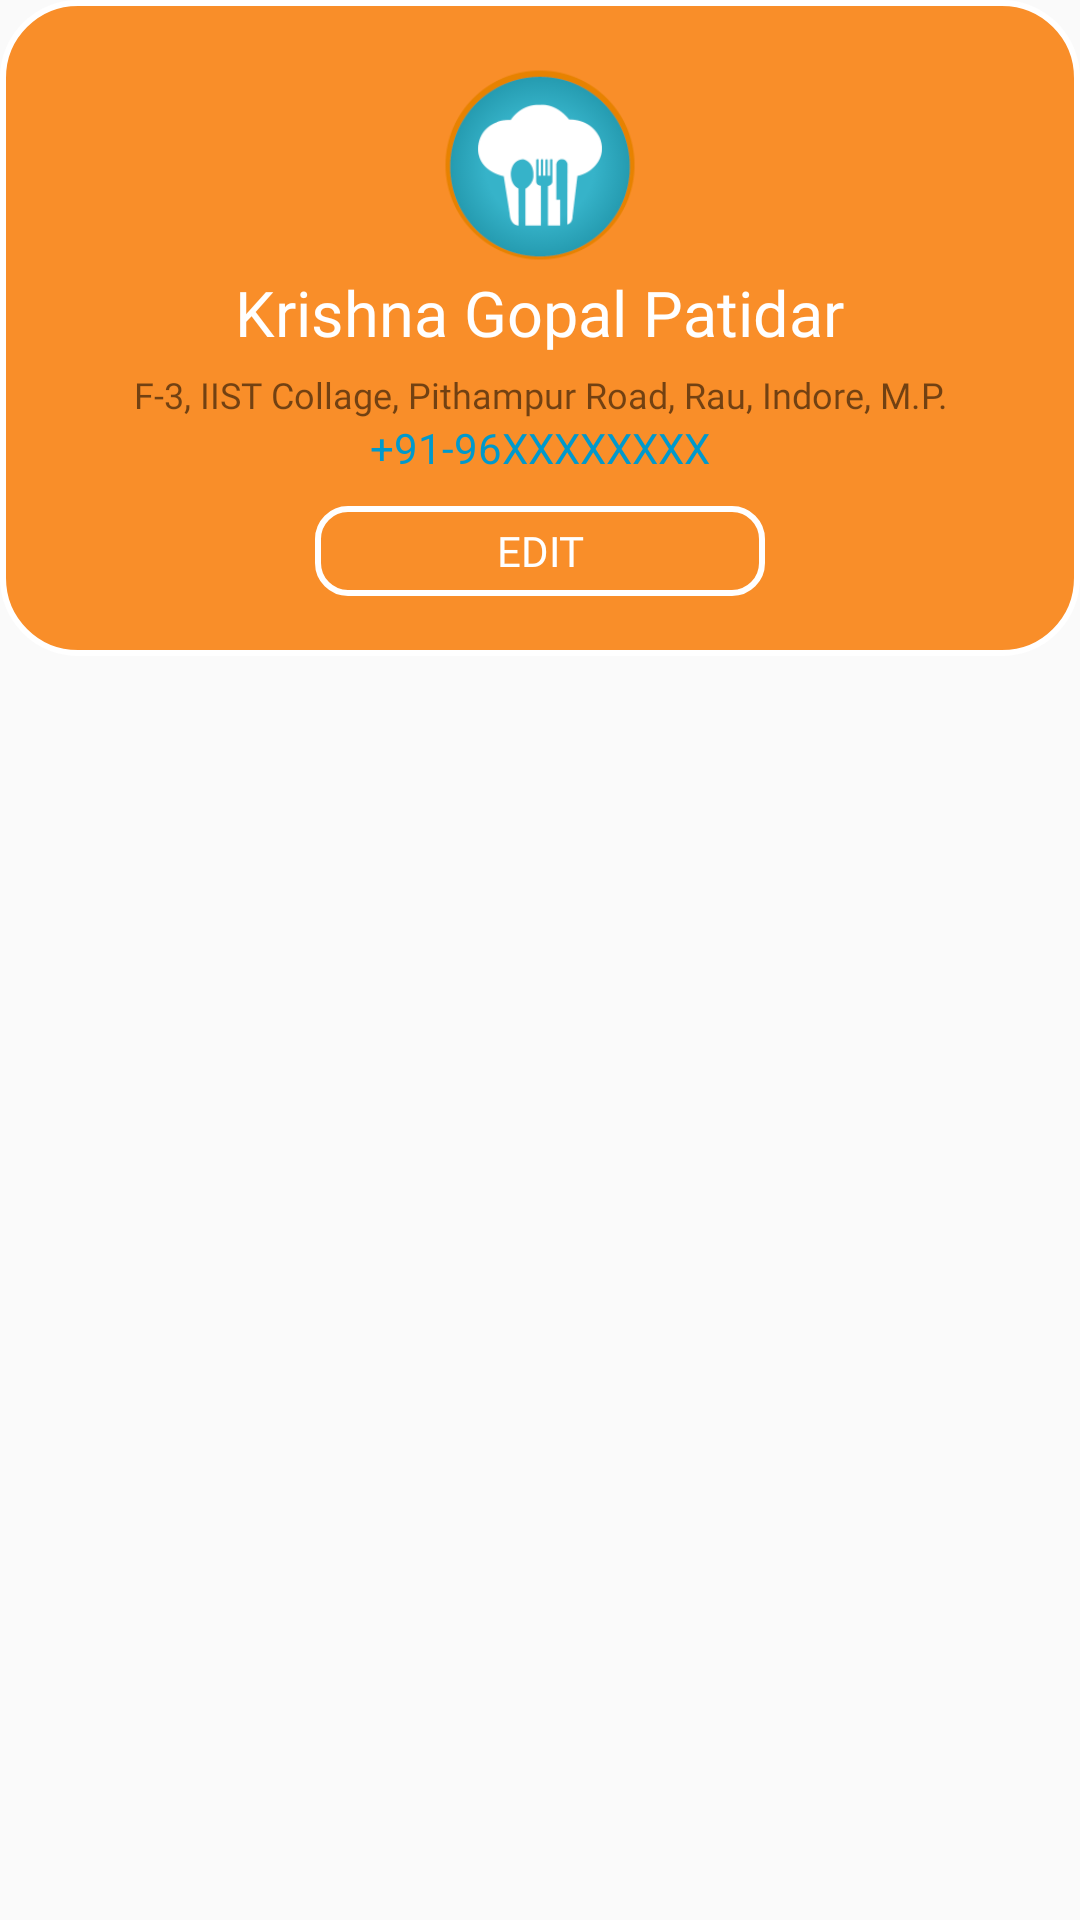

Screen size 1080*1920. Icon name, then its center in pixels as (x=x, y=y):
foodzacicon: (x=540, y=165)
